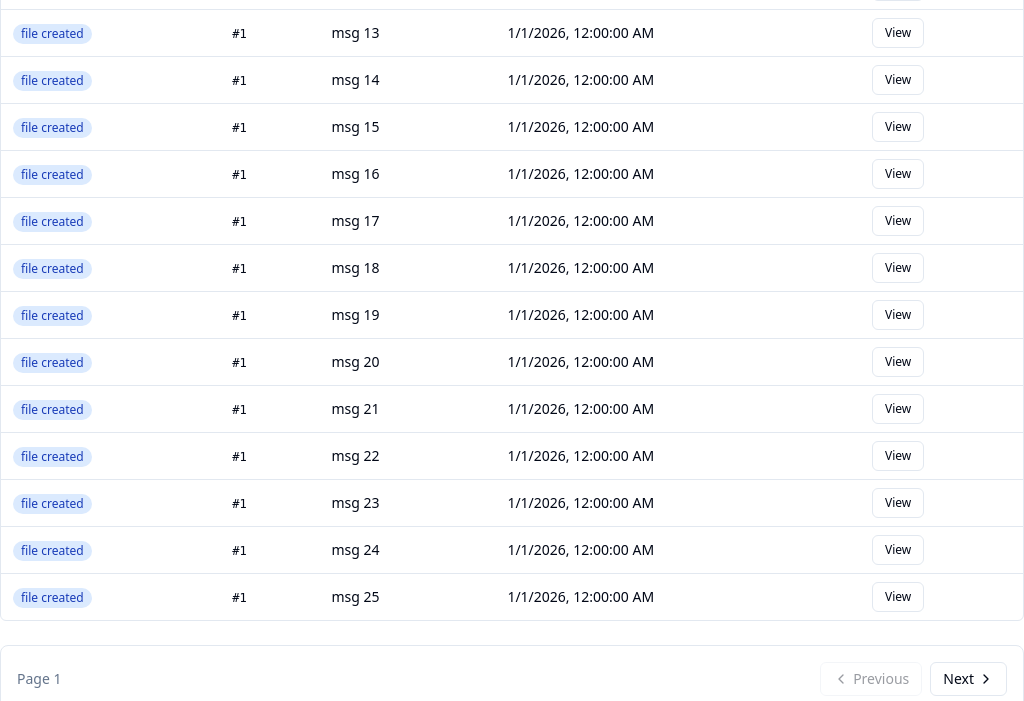
Scenario: LogsPage › navigates back to page 1 when Previous is clicked from page 2
The width and height of the screenshot is (1024, 701).
(page scrolled)
Click the button "Next" at (969, 679), box [930,662,1007,696]
(page scrolled)
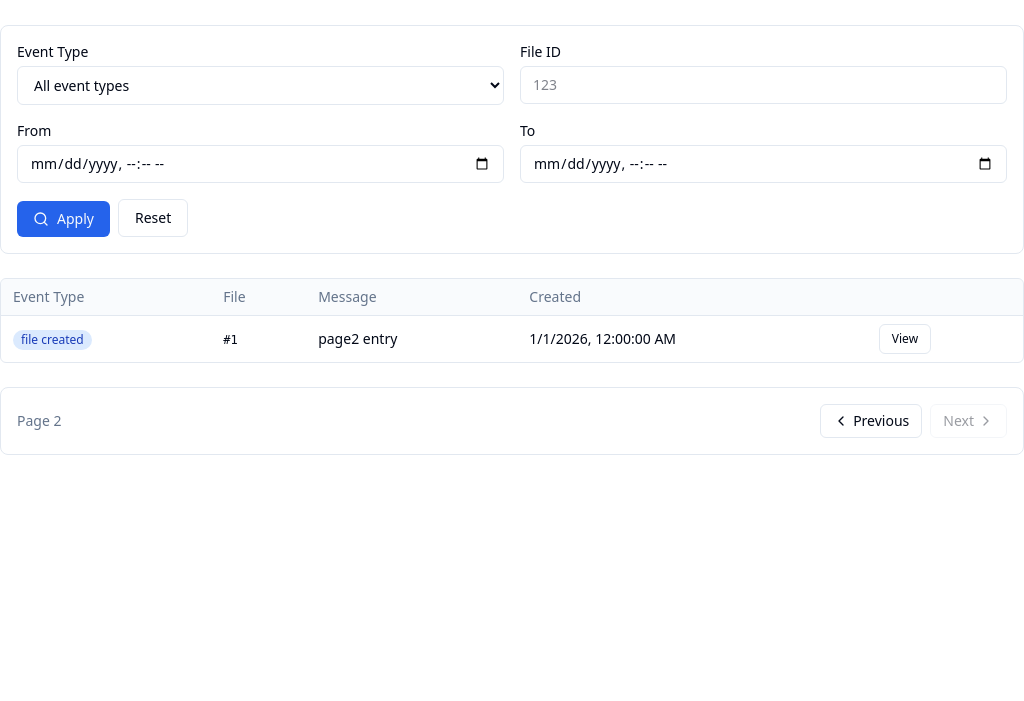
Now the text "page2 entry" is shown, box [306,316,517,362]
Click the button "Previous" at (871, 421), box [820,404,922,438]
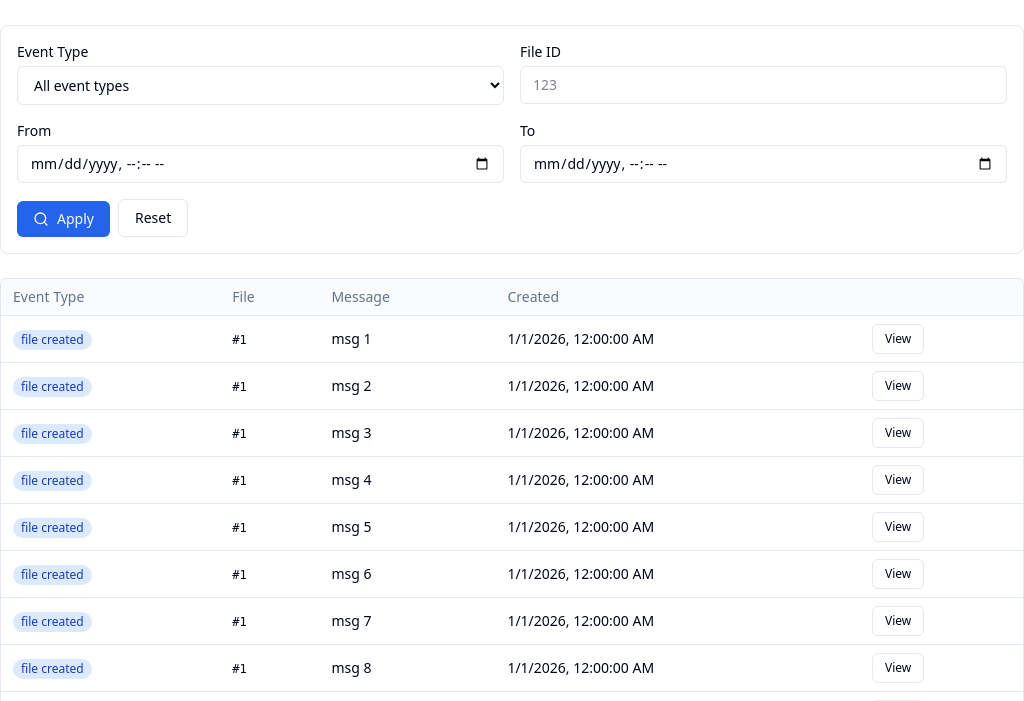
Now the row with test id "log-row-1" is shown, box [1,316,1023,362]
